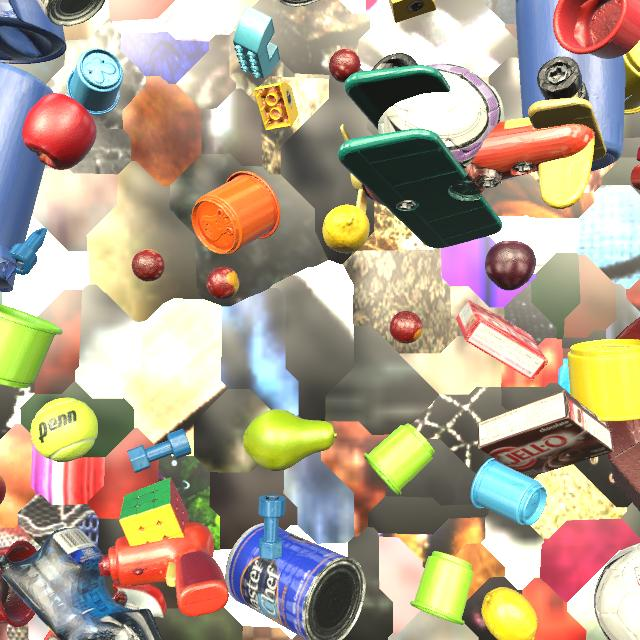ycb_002_master_chef_can: (225, 523, 366, 640)
ycb_003_cracker_box: (44, 630, 59, 640)
ycb_005_tomato_soup_can: (37, 0, 105, 26)
ycb_007_tuna_fish_can: (278, 0, 318, 7)
ycb_008_pudding_box: (477, 390, 614, 477)
ycb_009_gelatin_box: (456, 300, 548, 381)
ycb_013_apple: (22, 93, 97, 170)
ycb_014_lemon: (482, 587, 538, 640), (322, 205, 370, 253)
ycb_015_peach: (0, 476, 6, 504)
ycb_016_pear: (243, 409, 337, 471)
ycb_018_plum: (485, 241, 536, 291)
